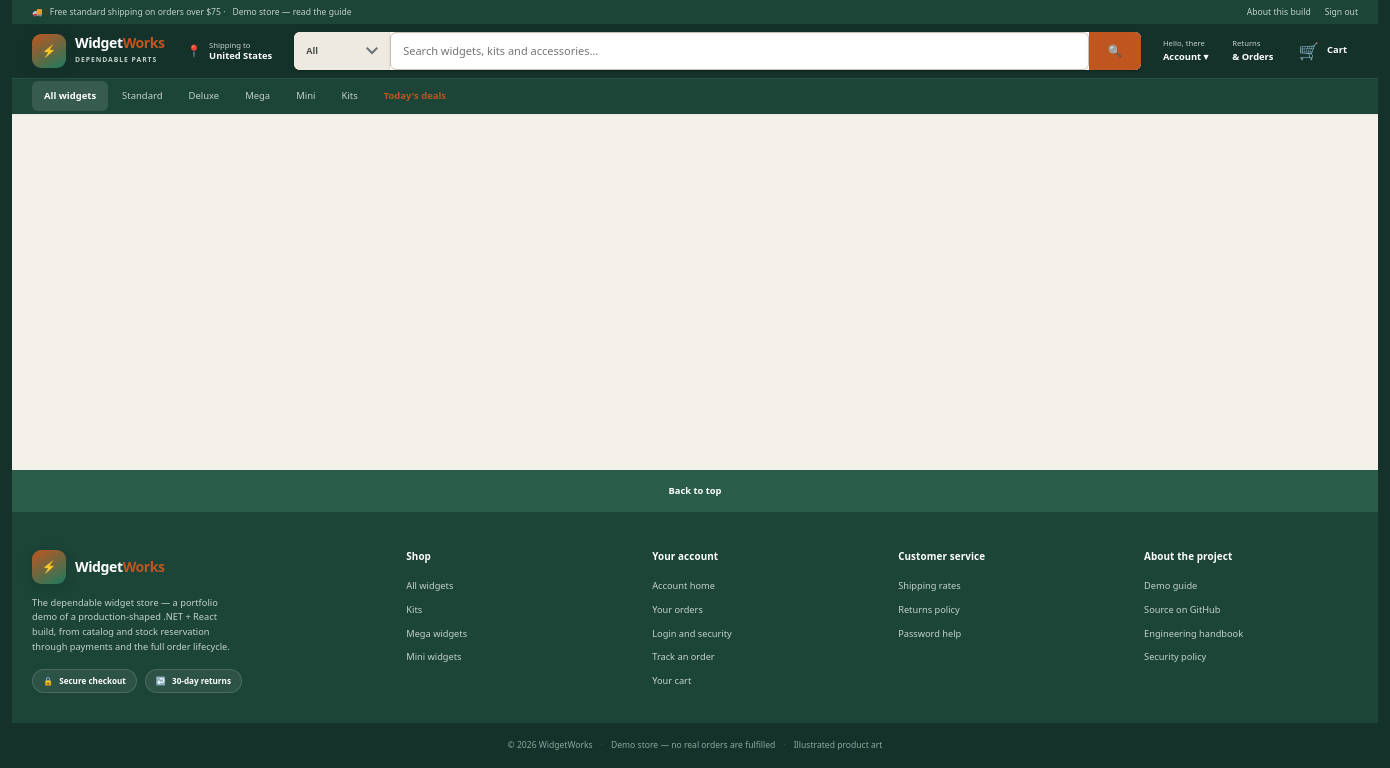
Layout › signing out clears the stored session
The width and height of the screenshot is (1390, 768).
Click the button "Sign out" at (1341, 12), box [1325,6,1358,18]
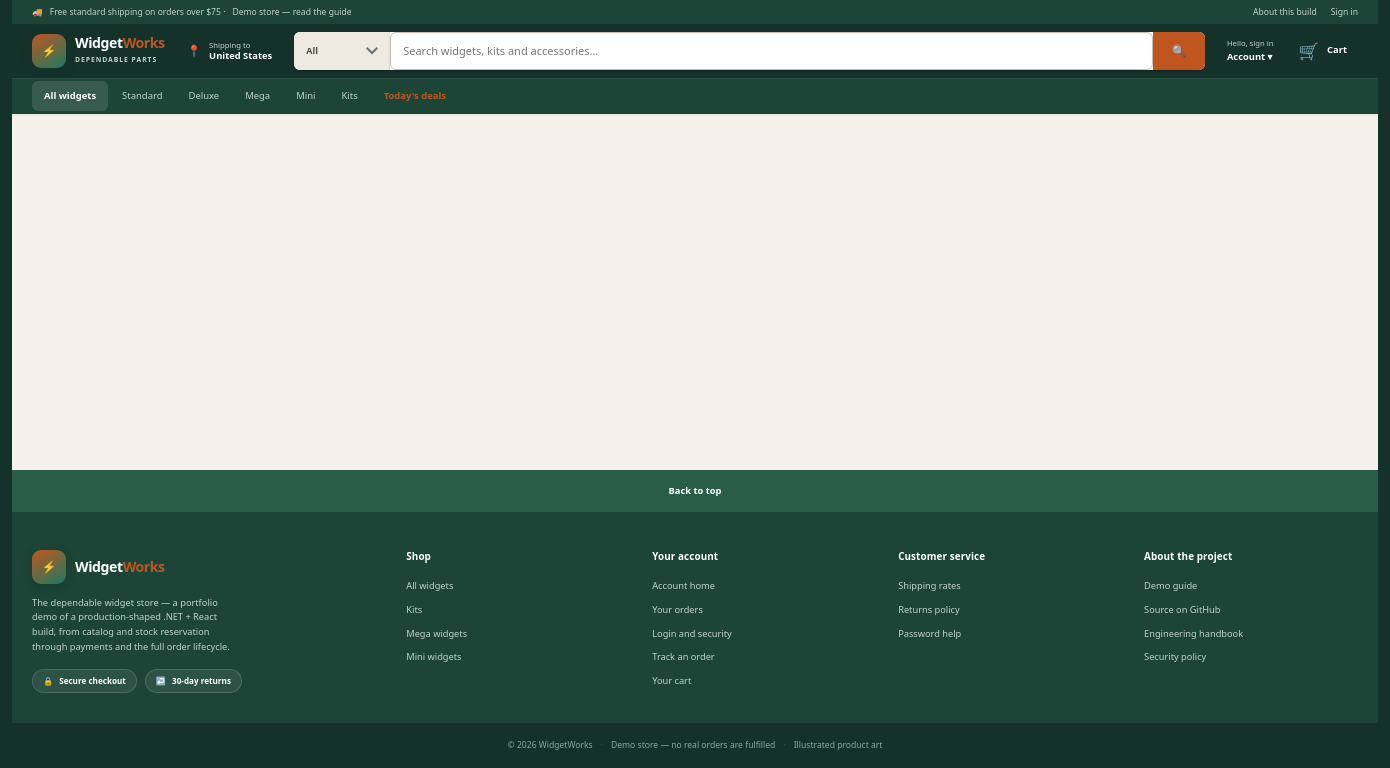
Expected: the link "Sign in" is shown, [1331,6,1358,18]
